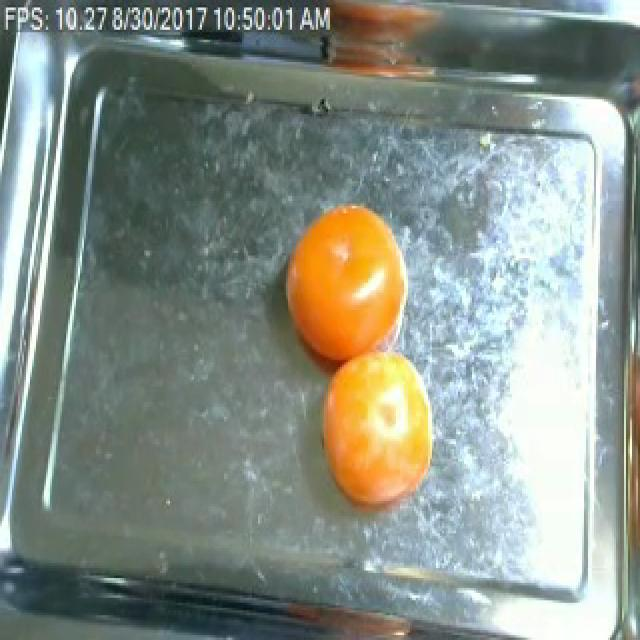Fruit: (304, 332, 448, 531), (272, 191, 408, 332), (308, 0, 454, 97)
